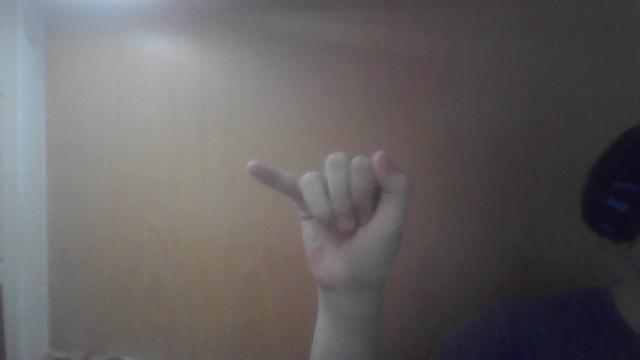Right: (250, 150, 408, 288)
